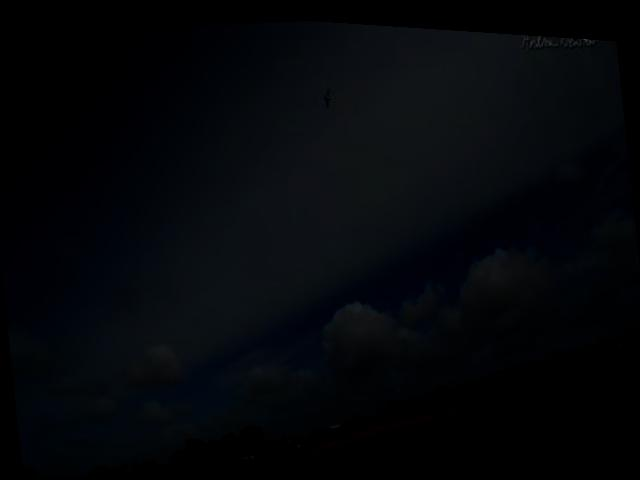uav: (316, 78, 336, 108)
